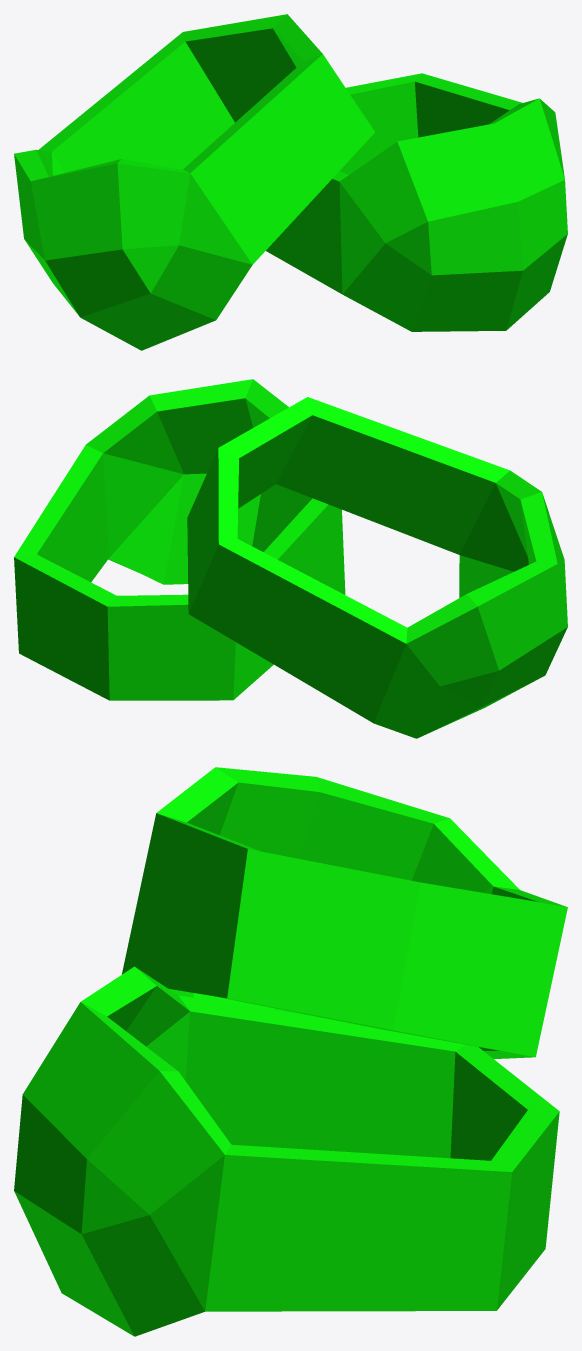
Rendered from SM_Armor_Legs_C_Placed_Fantasy.fbx.
3 views of the same model, one above another, from view 1: azimuth 30°, elevation 25°; view 2: azimuth 150°, elevation 25°; view 3: azimuth 270°, elevation 25° (orthographic). The views are drawn at different scales.
Visible parts, largest first — view 1: armor-legs-c-placed-fantasy; view 2: armor-legs-c-placed-fantasy; view 3: armor-legs-c-placed-fantasy.
Boxes of the visible parts, <box> form: armor-legs-c-placed-fantasy: <box>14,14,567,350</box>; armor-legs-c-placed-fantasy: <box>14,379,567,738</box>; armor-legs-c-placed-fantasy: <box>14,767,567,1336</box>.
Bounding box in the file's own units: 0.2512 × 0.1256 × 0.173.
